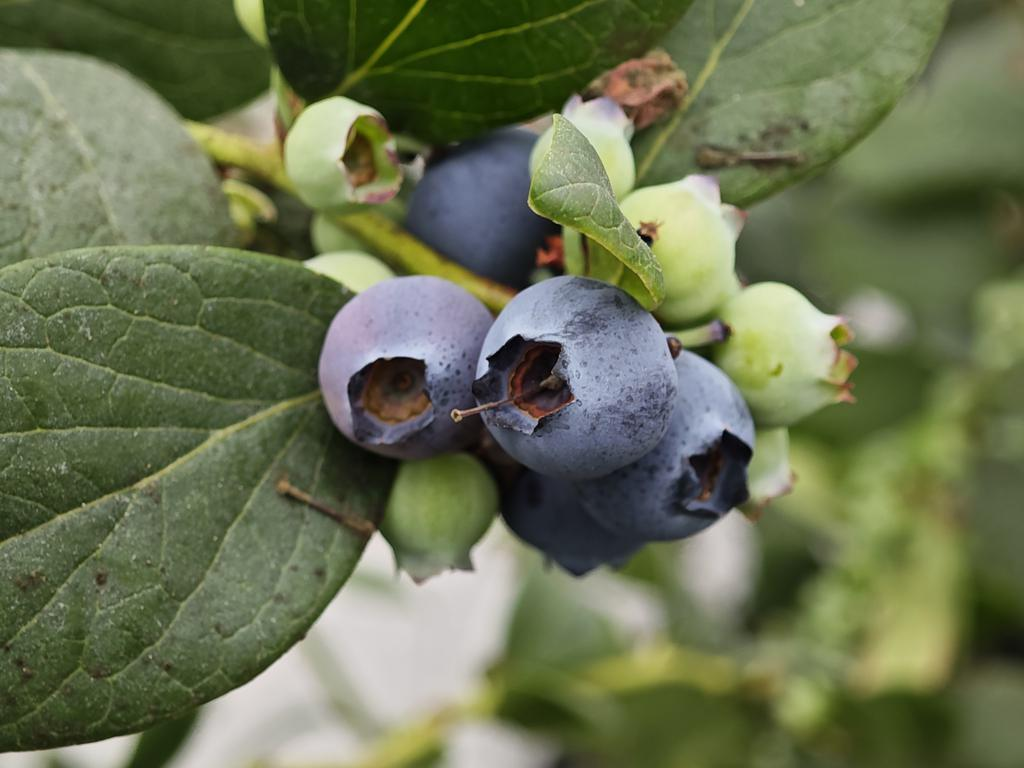RipeBlueBerry: (477, 273, 679, 477)
